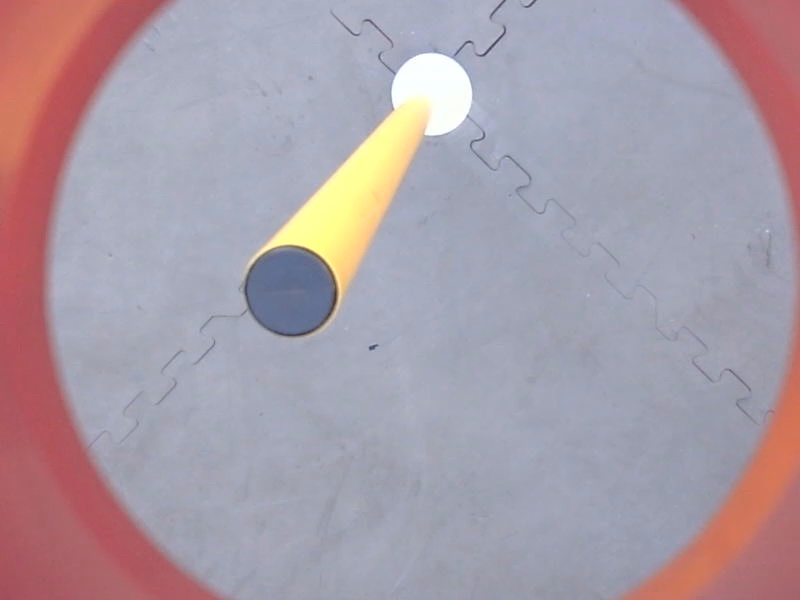tip: (237, 240, 345, 345)
